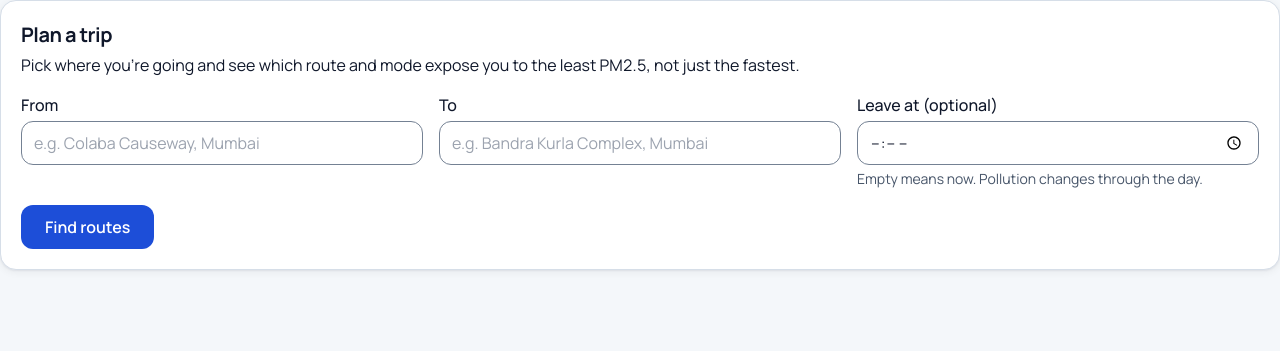
it: RoutePlanner › shows a readable alert for PLACE_NOT_FOUND
Type "Nowhere" into the field labelled "From" at (222, 143), box [21,121,423,165]
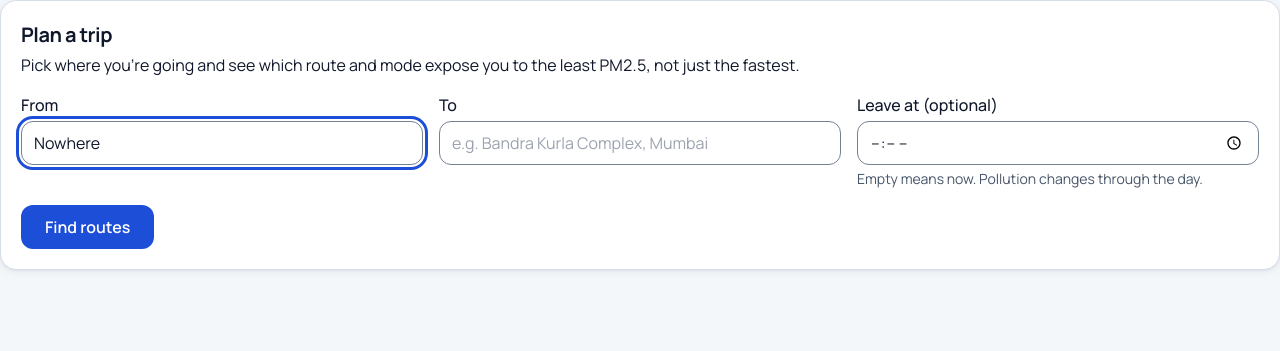
Type "Elsewhere" into the field labelled "To" at (640, 143), box [439,121,841,165]
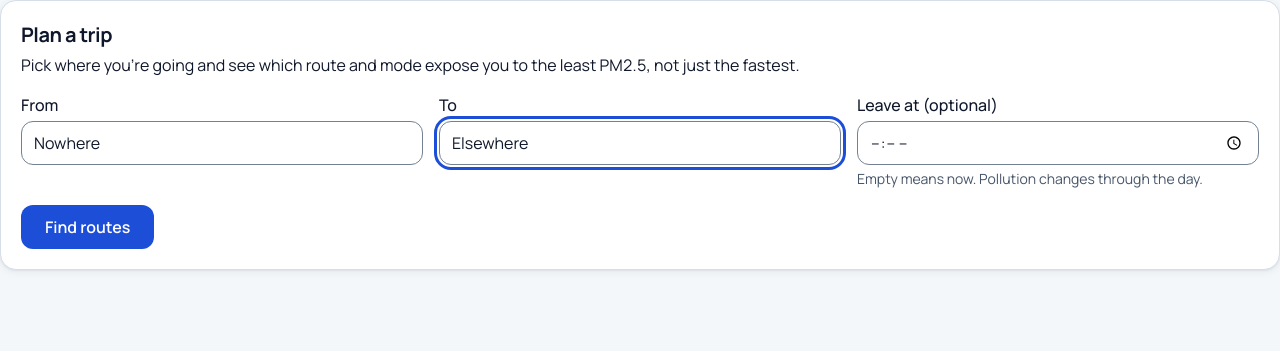
Click the button "Find routes" at (88, 227), box [21,205,154,249]
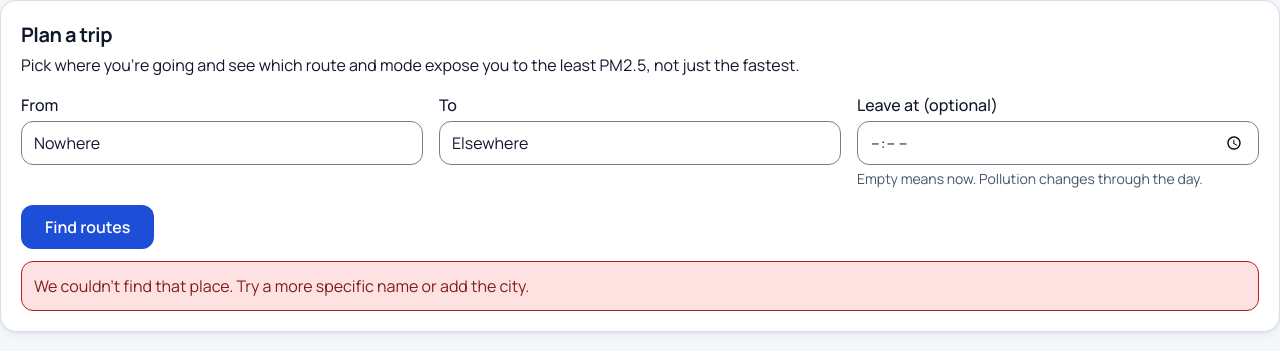
Expected: the message reads "We couldn't find that place. Try a more specific name or add the city.", [34,275,529,297]
